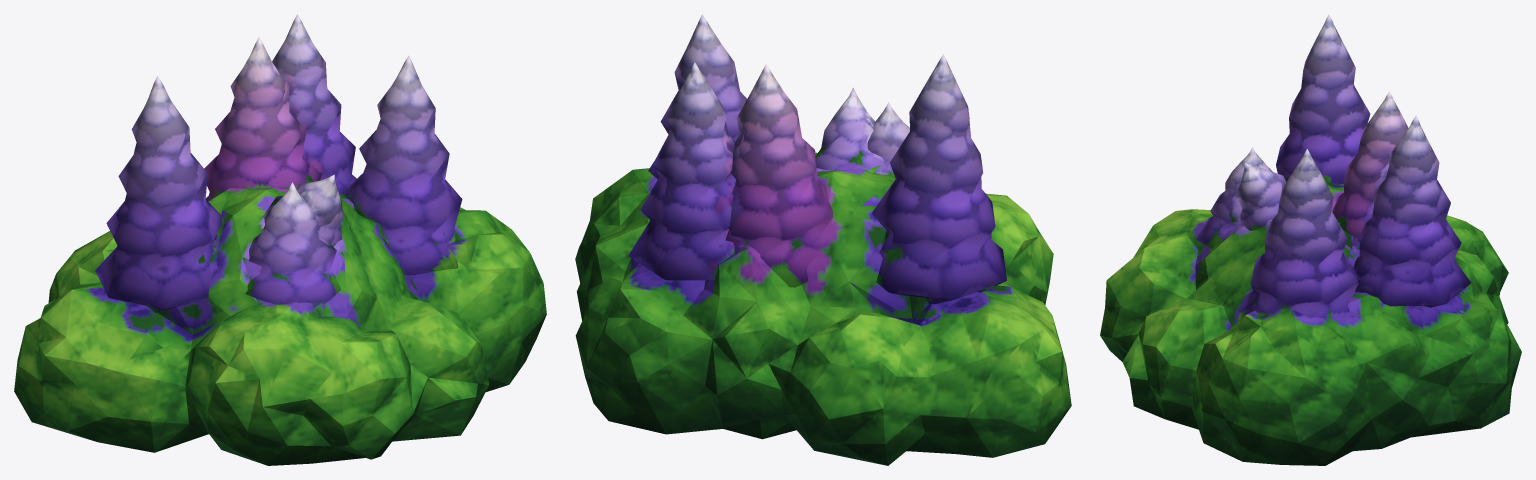
File: lupin_clump.glb
The picture shows the model from 3 angles, left to right: view 1: azimuth 30°, elevation 25°; view 2: azimuth 150°, elevation 25°; view 3: azimuth 270°, elevation 25°; orthographic projection. The views are drawn at different scales.
Parts seen in each view (by area): view 1: lupin_clump; view 2: lupin_clump; view 3: lupin_clump.
Part boxes in pixels (<box>): lupin_clump: <box>14,14,546,465</box>; lupin_clump: <box>575,14,1071,465</box>; lupin_clump: <box>1100,14,1521,465</box>.
Size of the model in its own units: 0.7954 by 0.5275 by 0.6639.
Materials: 1 (1 with a texture image).
